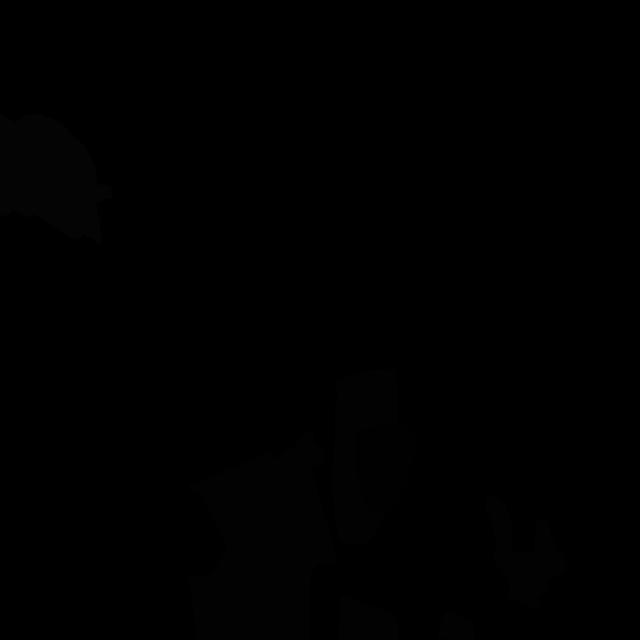cardboard: (188, 452, 301, 640), (260, 431, 338, 640), (331, 369, 398, 544), (484, 496, 569, 611), (338, 596, 399, 640), (437, 611, 475, 640)
rigid_plastic: (356, 422, 417, 512)
soft_plastic: (0, 113, 112, 244)
